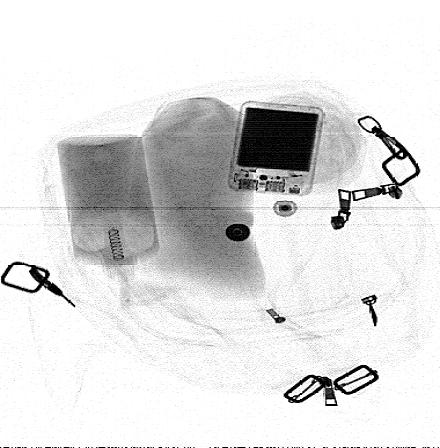Powerbank: (227, 99, 326, 197)
